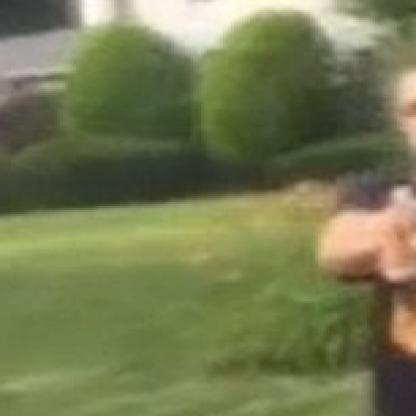gun: (400, 168, 413, 246)
